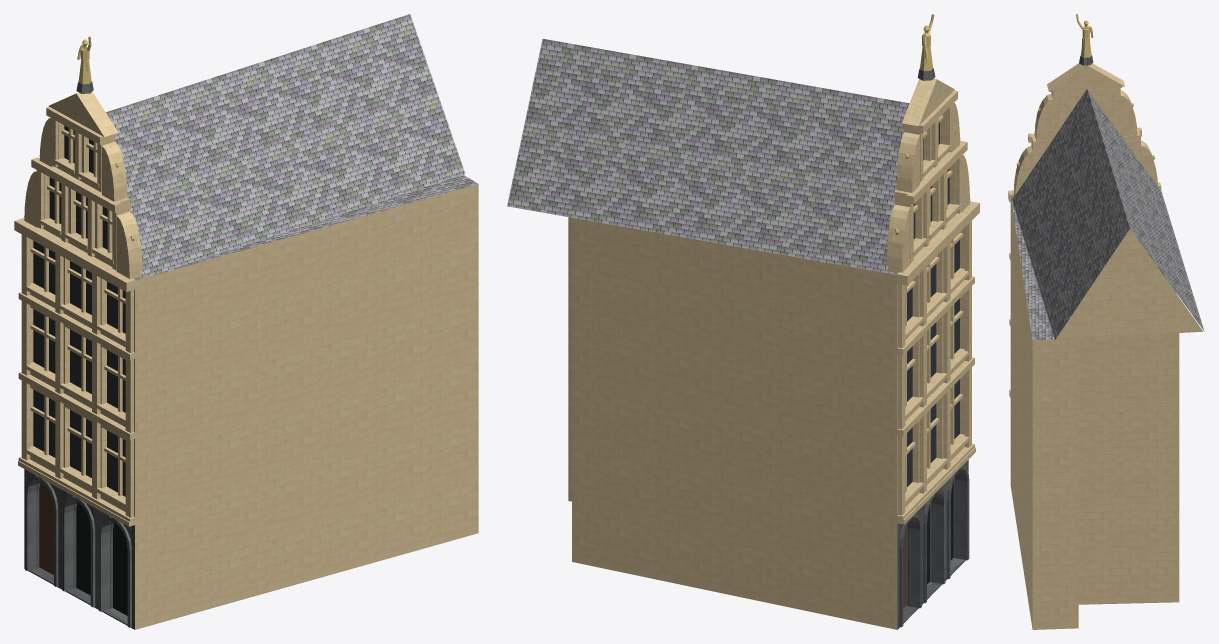
3 views of the same model, side by side, from view 1: azimuth 30°, elevation 25°; view 2: azimuth 150°, elevation 25°; view 3: azimuth 270°, elevation 25° (orthographic). The views are drawn at different scales.
Parts seen in each view (by area): view 1: bldg_496944513_landmark; view 2: bldg_496944513_landmark; view 3: bldg_496944513_landmark.
Part boxes in pixels (x1,y1,x2,y2): bldg_496944513_landmark: [14, 14, 478, 629]; bldg_496944513_landmark: [507, 14, 979, 629]; bldg_496944513_landmark: [1008, 14, 1204, 629].
Bounding box in the file's own units: 16.27 × 22.66 × 8.6.
7 materials, 3 textured.
